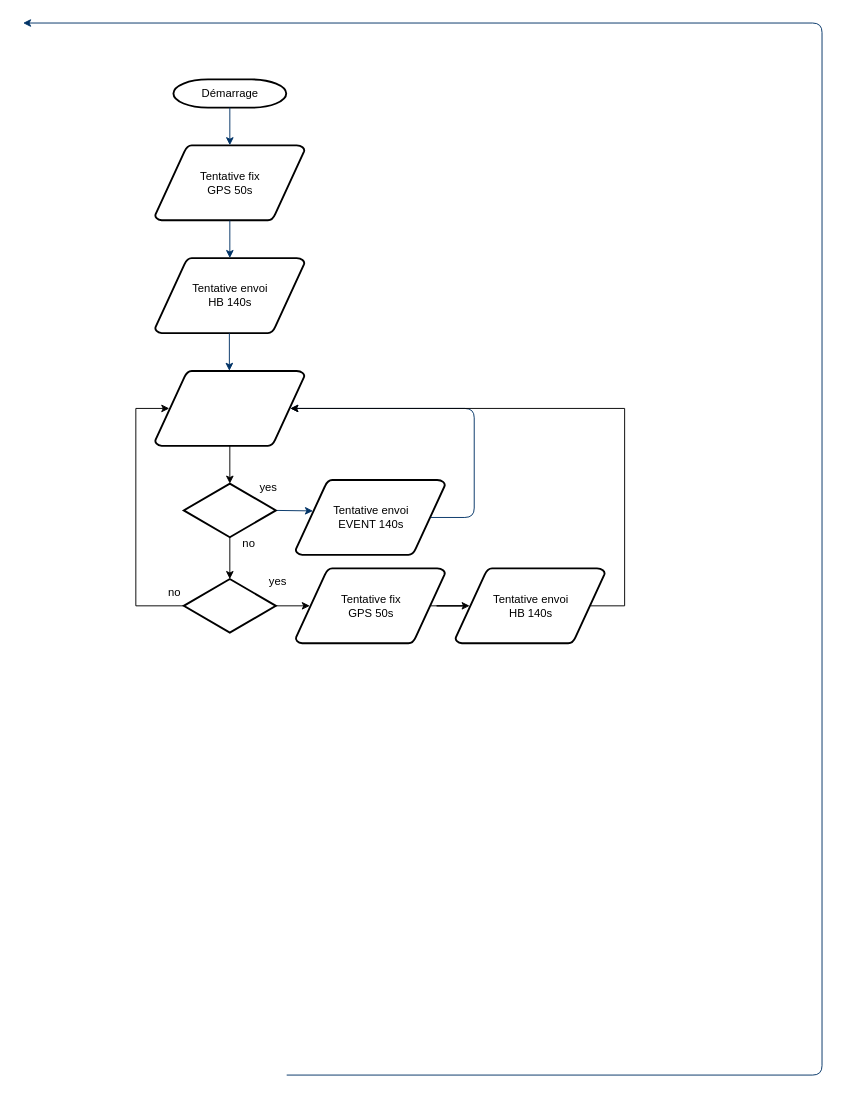
This 846x1100 diagram has some shape labels left out. Each missing label, with the box of its shape:
event TOR ?: (182, 482, 276, 538)
Mode veille: (154, 369, 305, 446)
Période HB ?: (182, 578, 276, 633)
